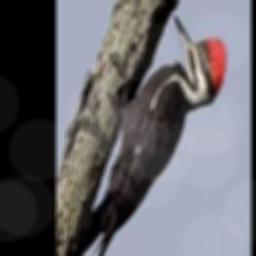Woodpecker: (57, 15, 227, 256)
